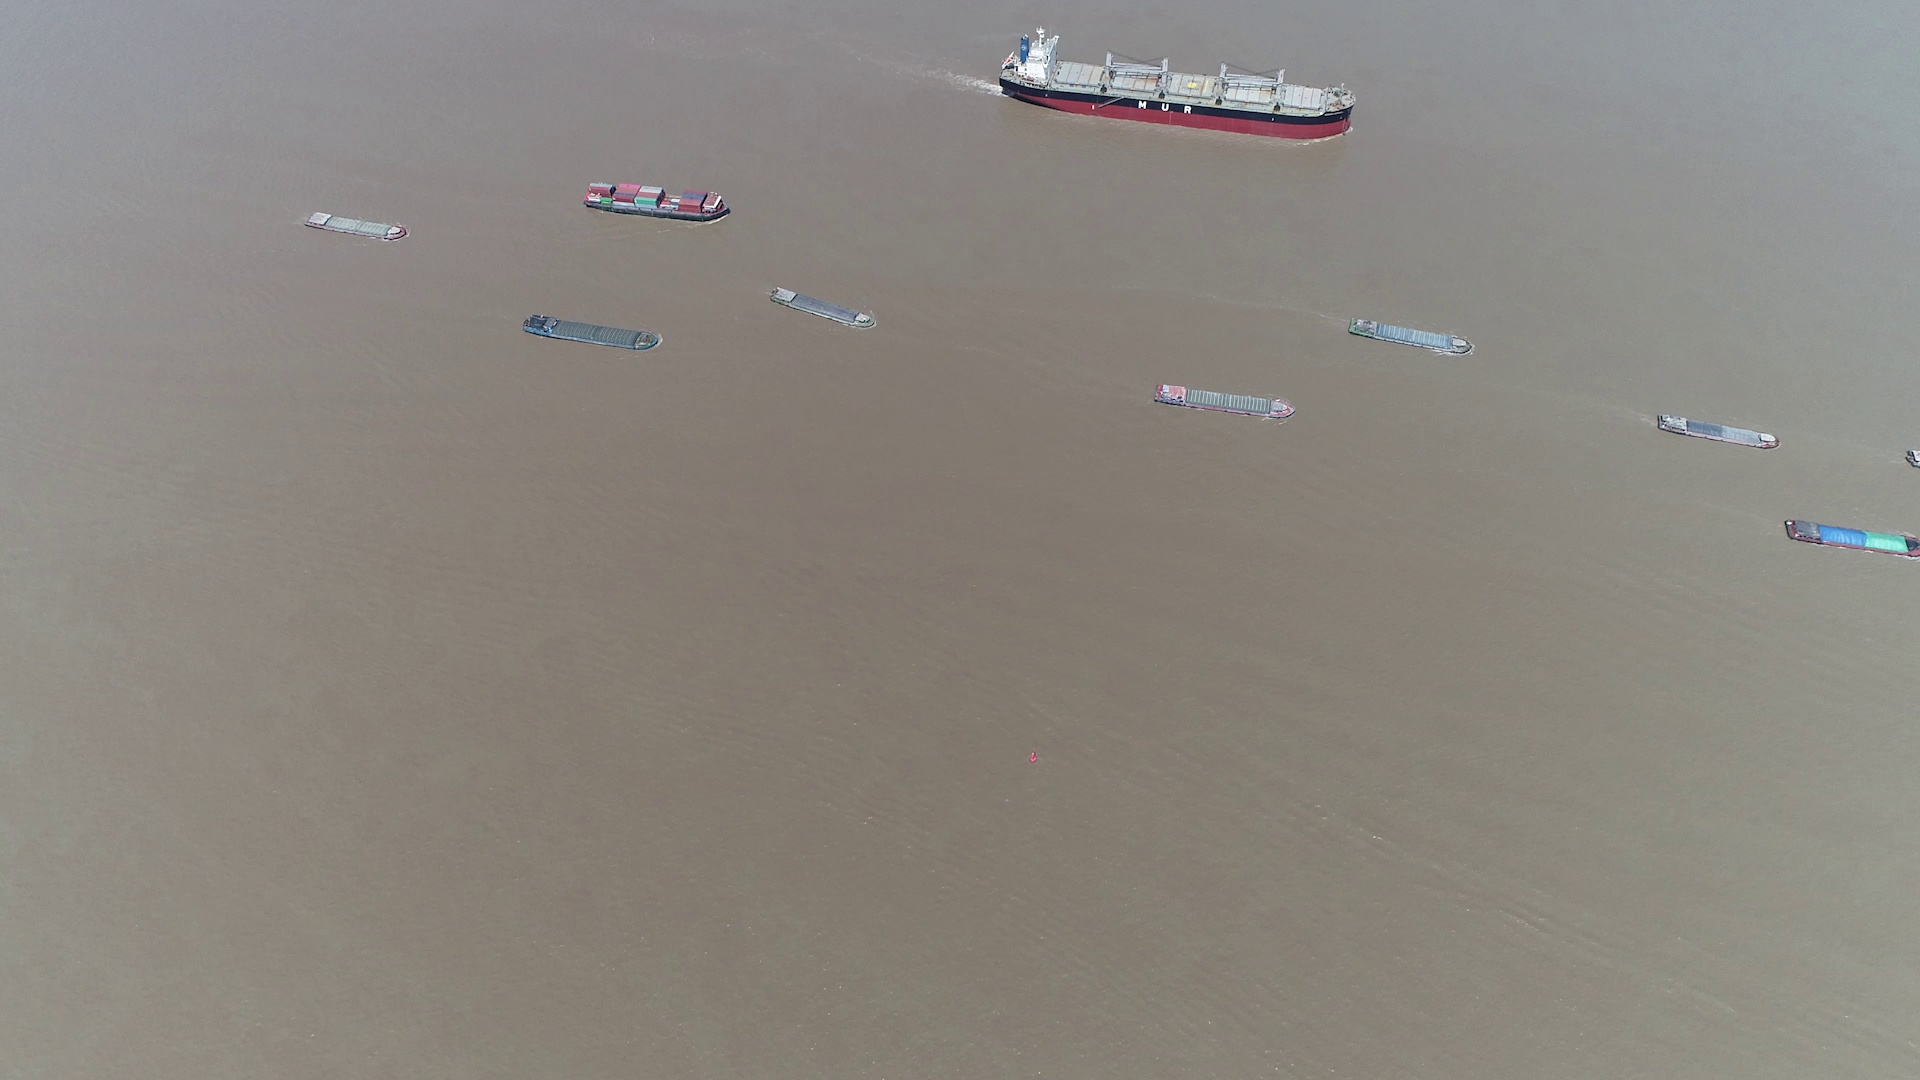ship: (998, 34, 1356, 138), (584, 181, 728, 222), (1783, 517, 1920, 556), (521, 313, 662, 351), (1156, 381, 1294, 419), (1348, 316, 1472, 356), (1655, 411, 1780, 448), (771, 287, 880, 330), (305, 210, 407, 241)
